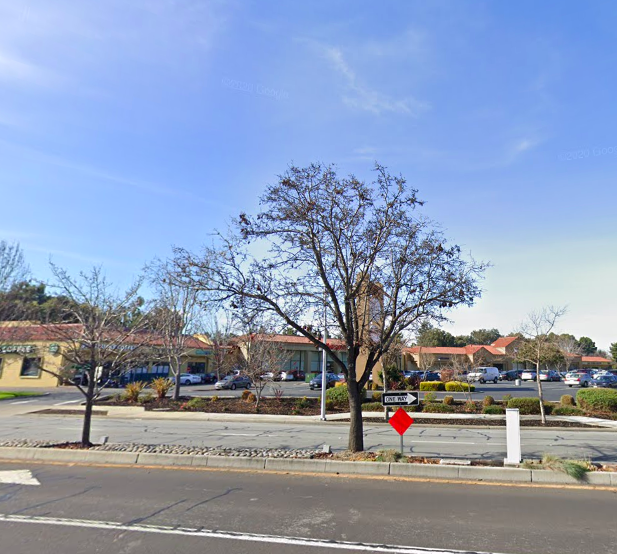tree: (162, 157, 496, 452)
